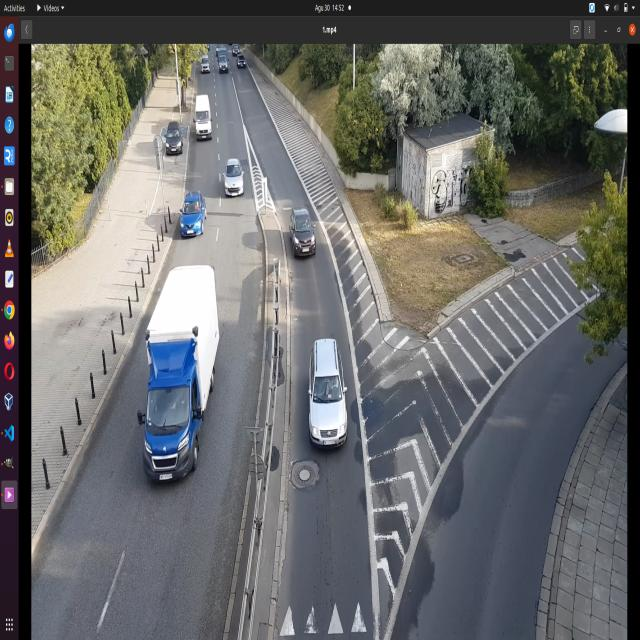person_with_seatbelt: (329, 376, 340, 396), (302, 216, 310, 228)
person_without_seatbelt: (316, 376, 324, 394)
